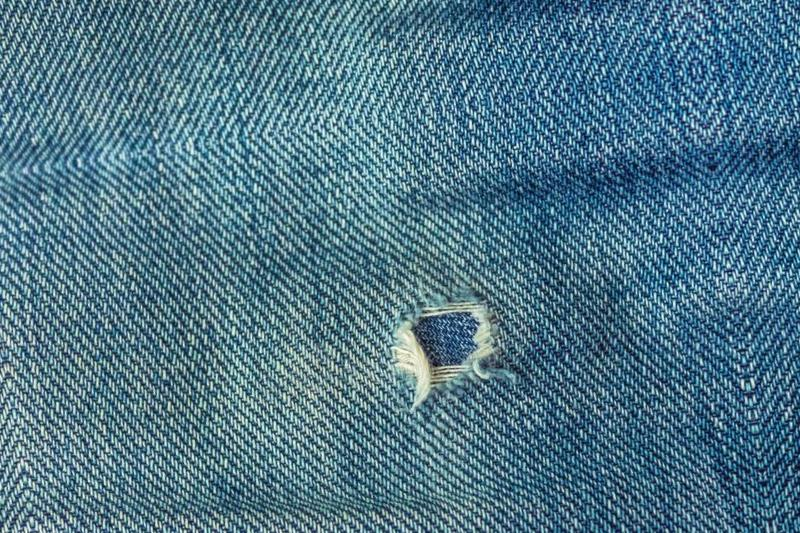hole: (384, 297, 518, 398)
